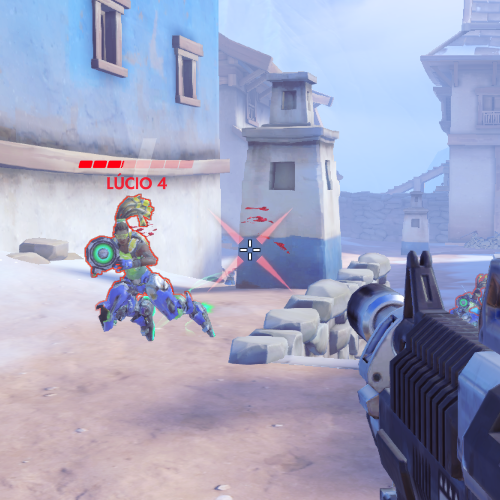hpbar: (78, 160, 194, 169)
